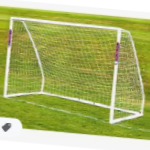goals: (2, 14, 149, 122)
